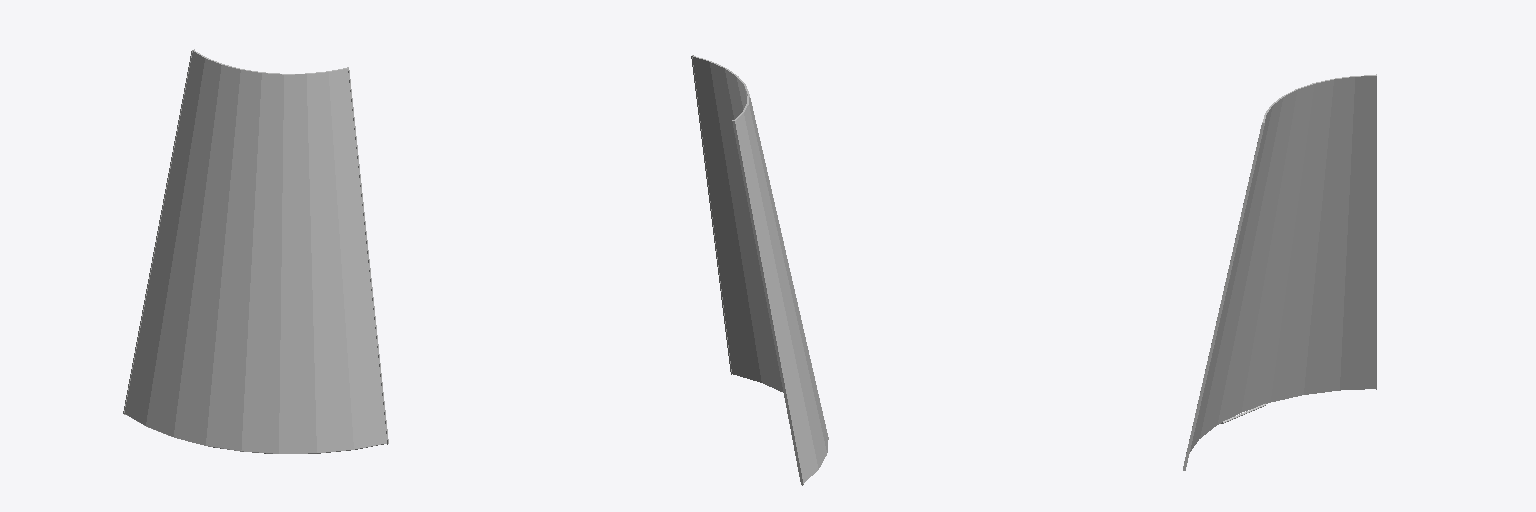
Rendered from Saturn V_4_3.obj.
3 views of the same model, side by side, from view 1: azimuth 30°, elevation 25°; view 2: azimuth 150°, elevation 25°; view 3: azimuth 270°, elevation 25° (orthographic).
Parts seen in each view (by area): view 1: LEM_Fairing.000_Cylinder.018; view 2: LEM_Fairing.000_Cylinder.018; view 3: LEM_Fairing.000_Cylinder.018.
Boxes of the visible parts, x1=… form: LEM_Fairing.000_Cylinder.018: x1=123, y1=49, x2=388, y2=453; LEM_Fairing.000_Cylinder.018: x1=691, y1=55, x2=828, y2=485; LEM_Fairing.000_Cylinder.018: x1=1183, y1=74, x2=1376, y2=470.
Size of the model in its own units: 3.31 by 6.54 by 3.31.